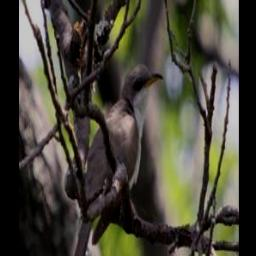Cuckoo: (68, 57, 165, 256)
